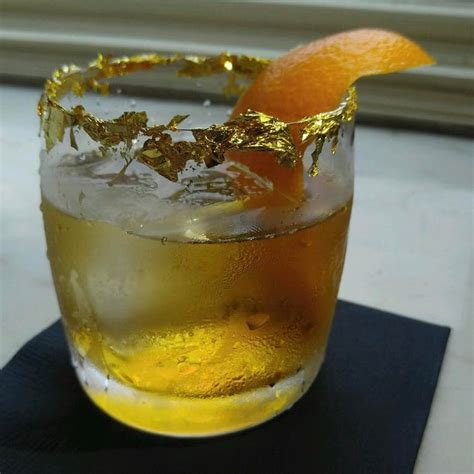alcohol: (26, 42, 377, 440)
